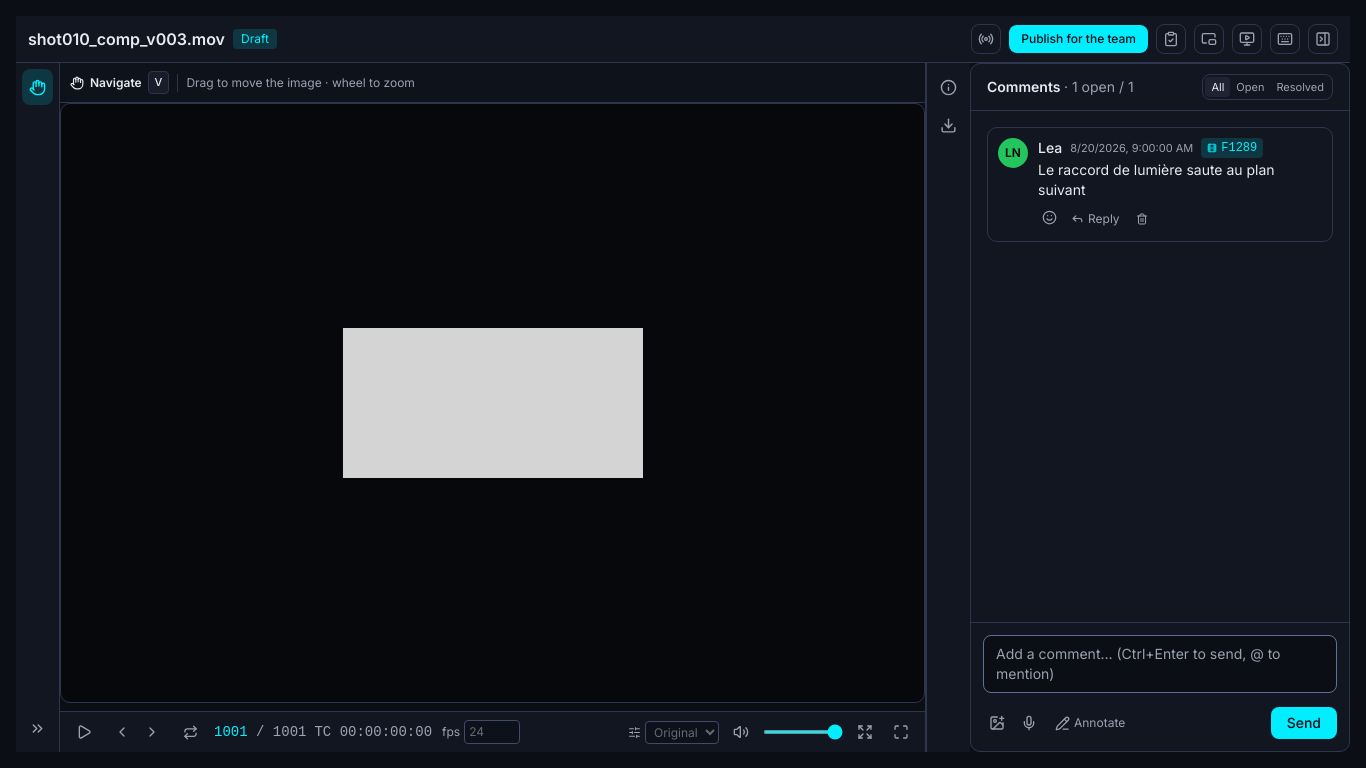
Scenario: ReviewPage — comment panel › shows the media thread and collapses on demand
Expected: the text "Le raccord de lumière saute au plan suivant" is shown, x1=1038 y1=161 x2=1279 y2=198
Click the button named "Hide the comments" at (1323,39), box x1=1308 y1=24 x2=1338 y2=54
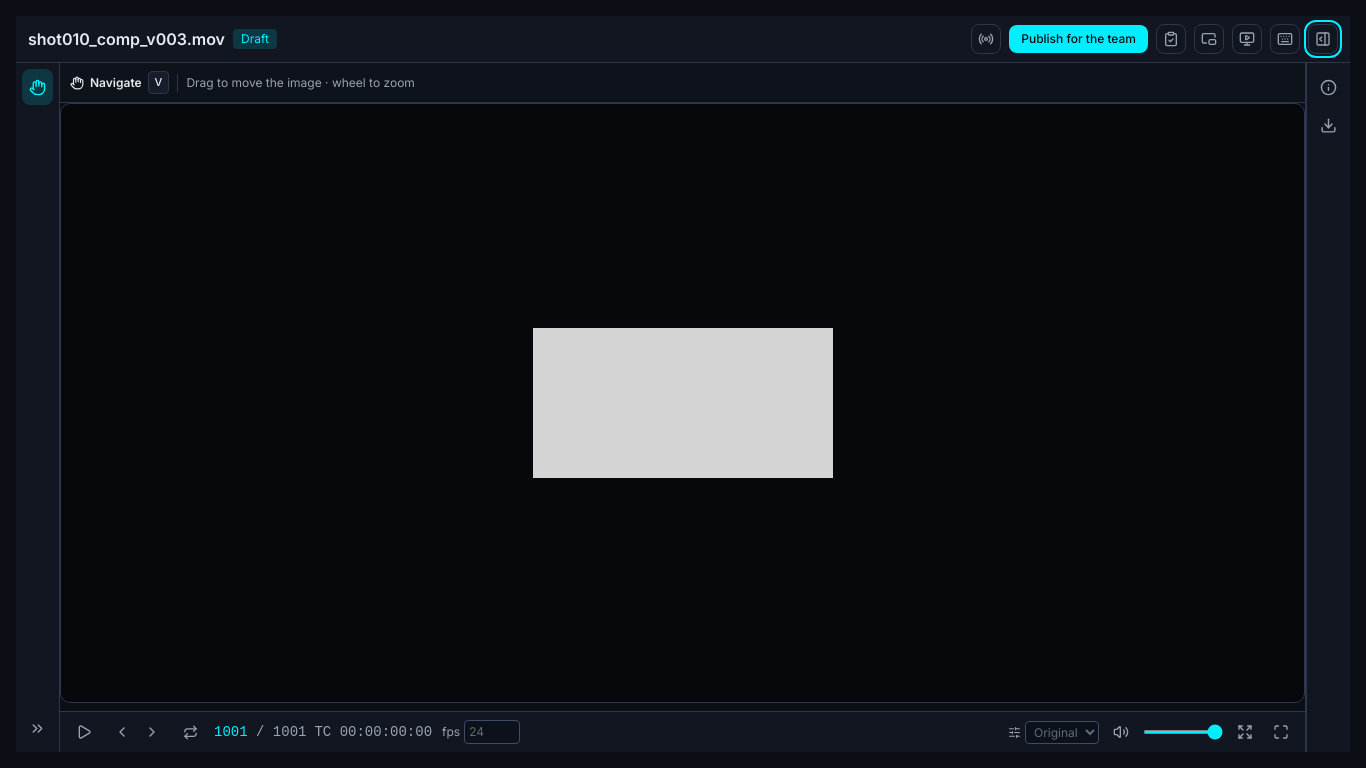
Result: the button "Le raccord de lumière saute au plan suivant" is gone
